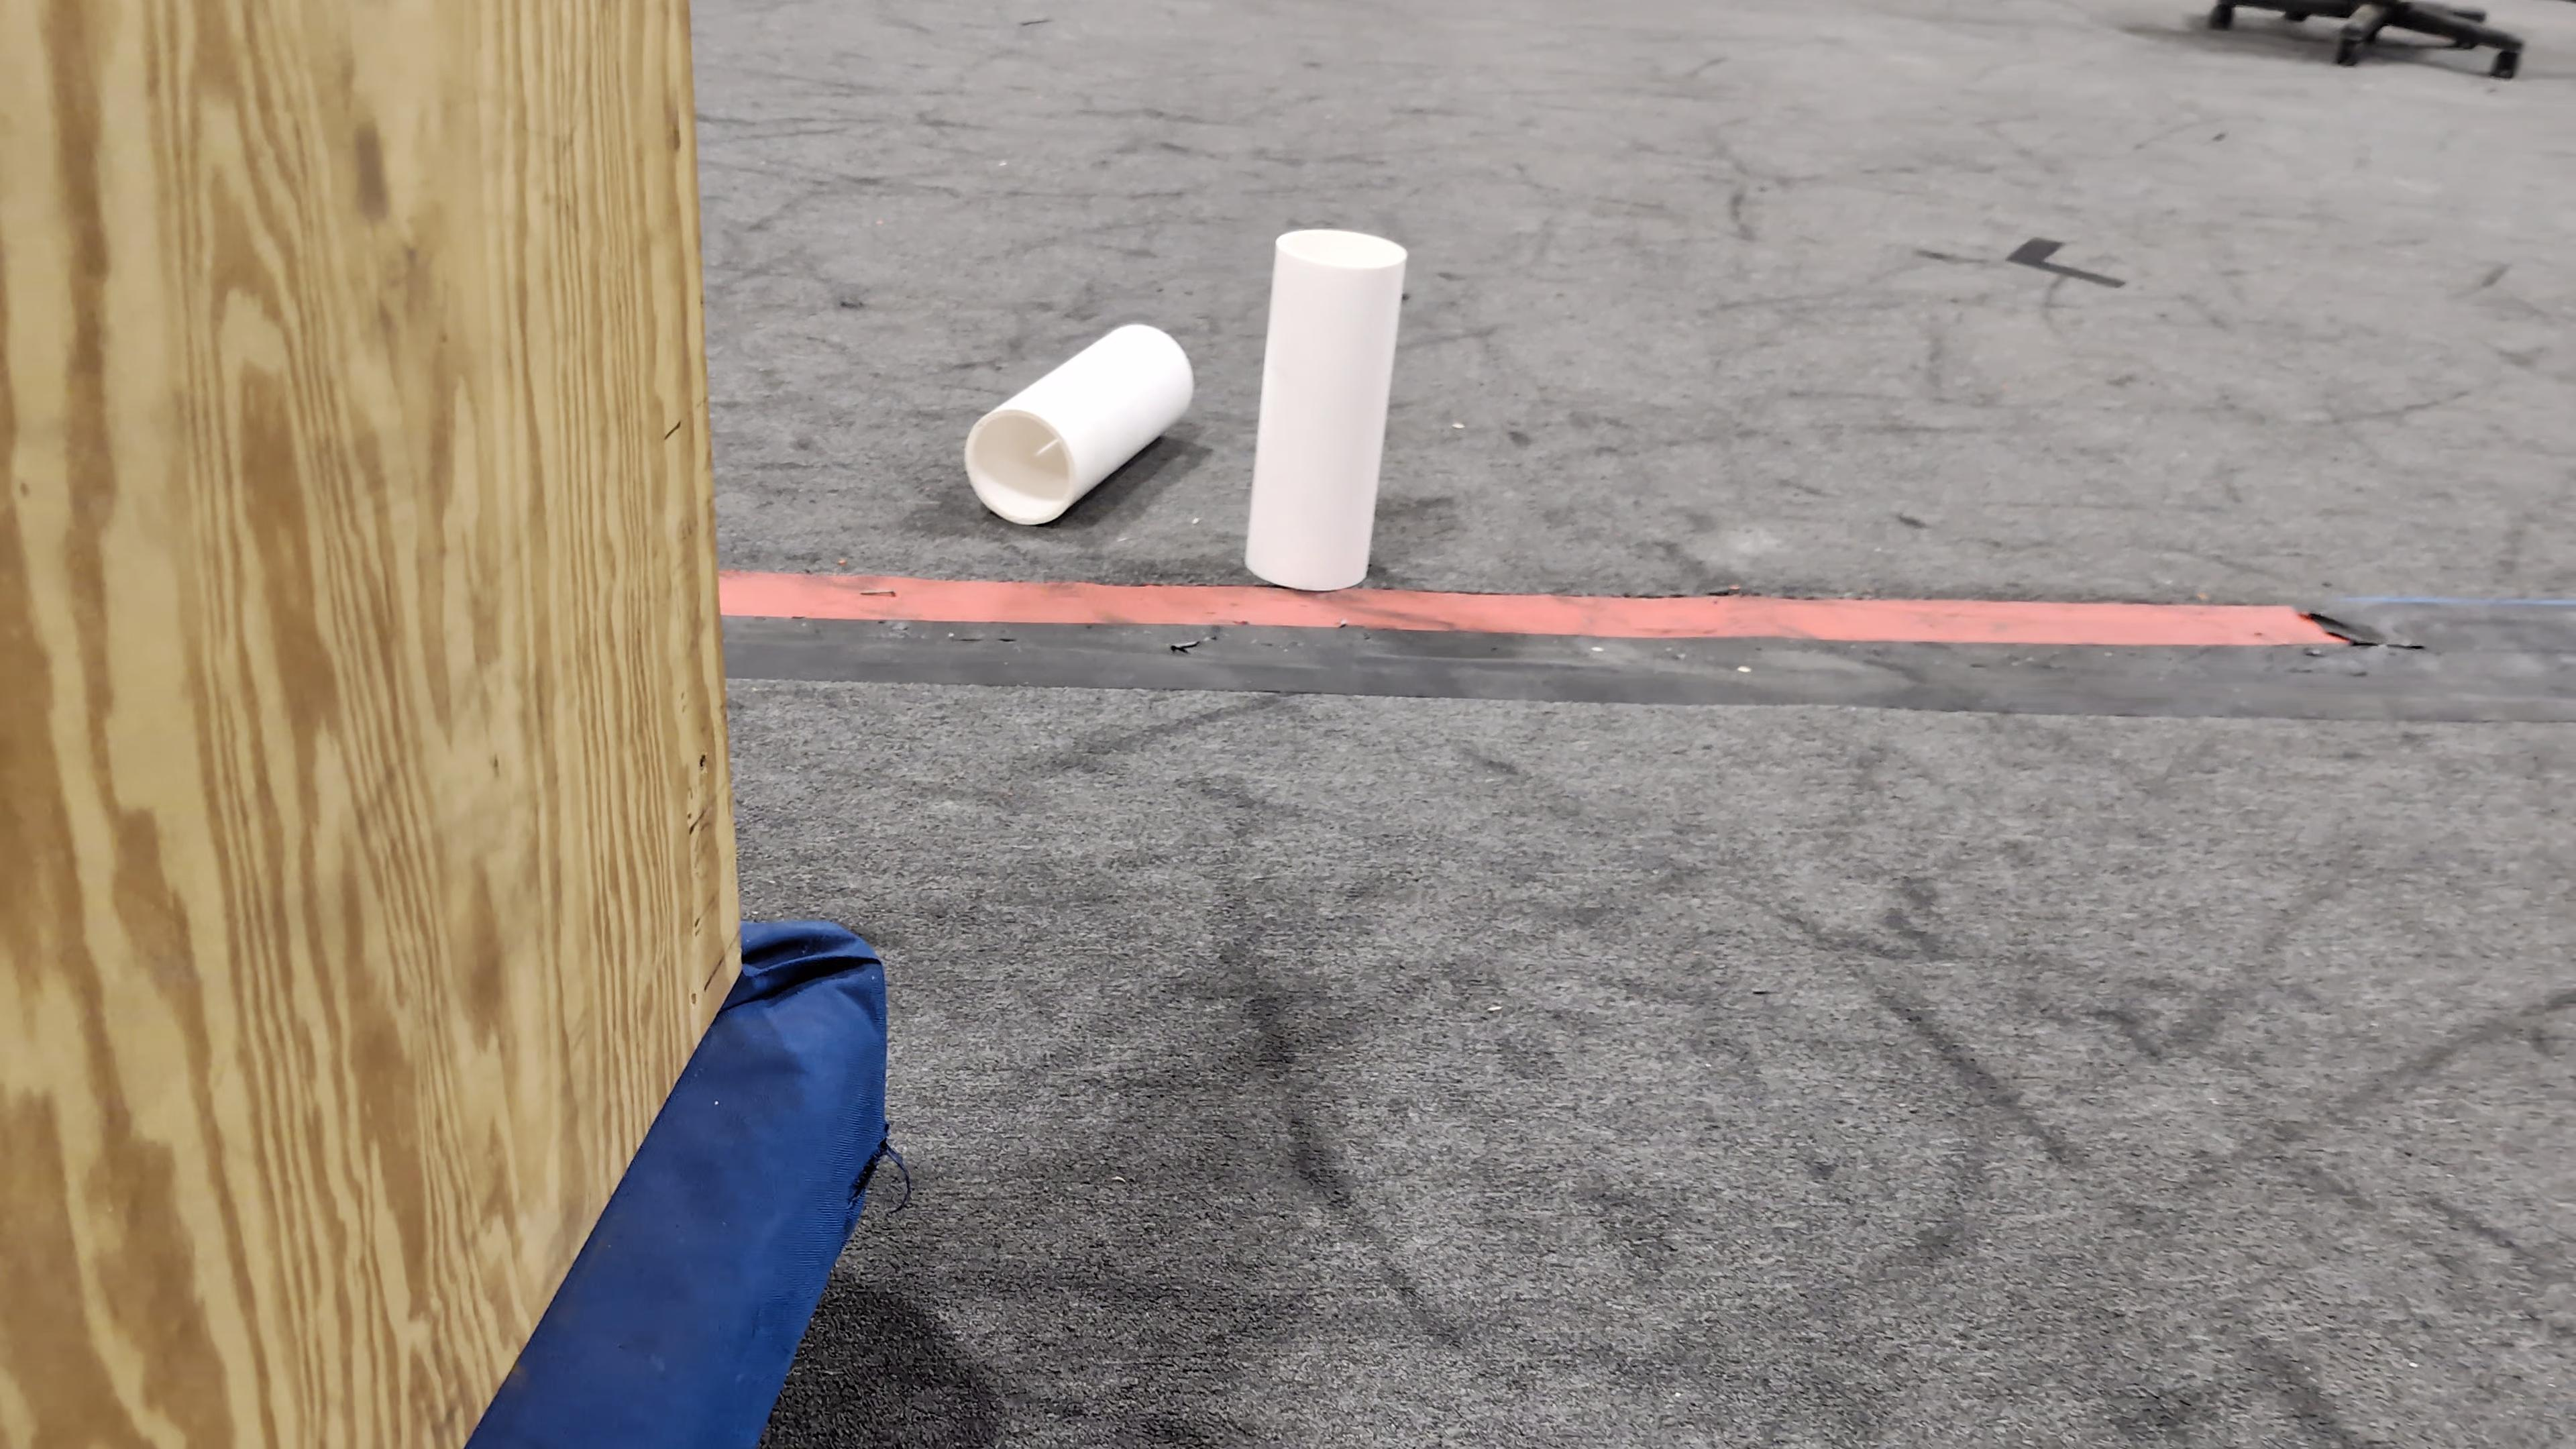coral: (1238, 223, 1410, 591), (962, 318, 1196, 524)
